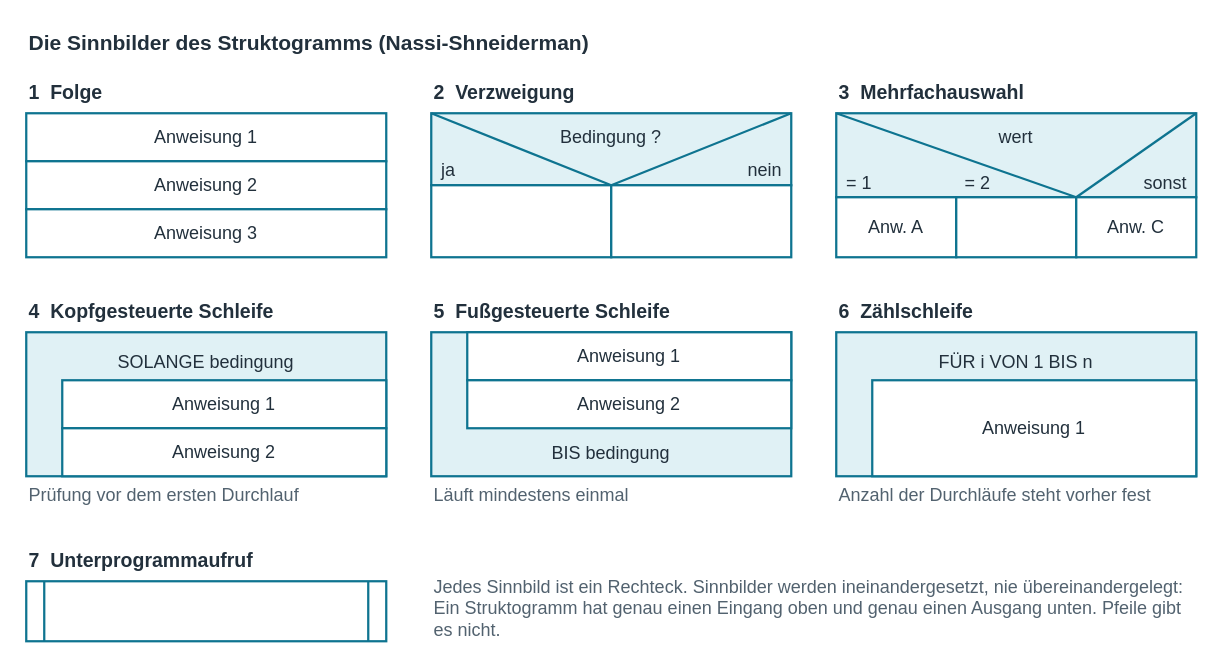
This 1226x672 diagram has some shape labels left out. Each missing label, with the centre of its shape:
"Anw. B" goes at [1015,226].
"Anweisung A" goes at [520,220].
"Anweisung B" goes at [700,220].
"ergebnis = Name(parameter)" goes at [205,610].
